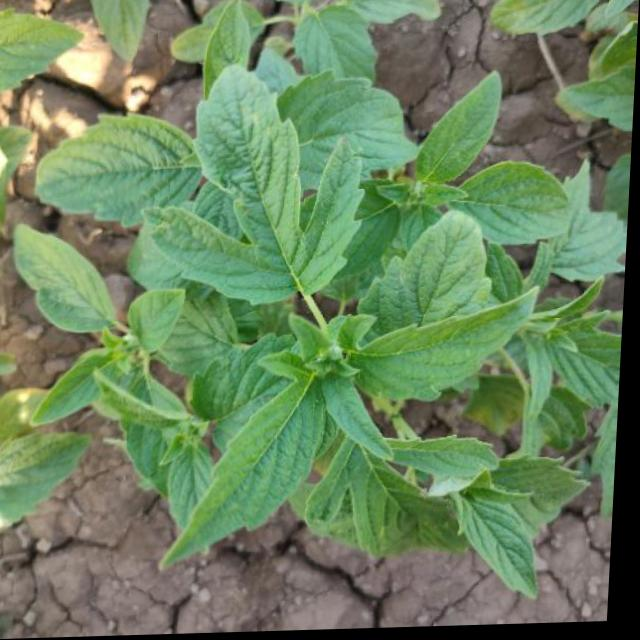crop: (0, 0, 640, 603)
